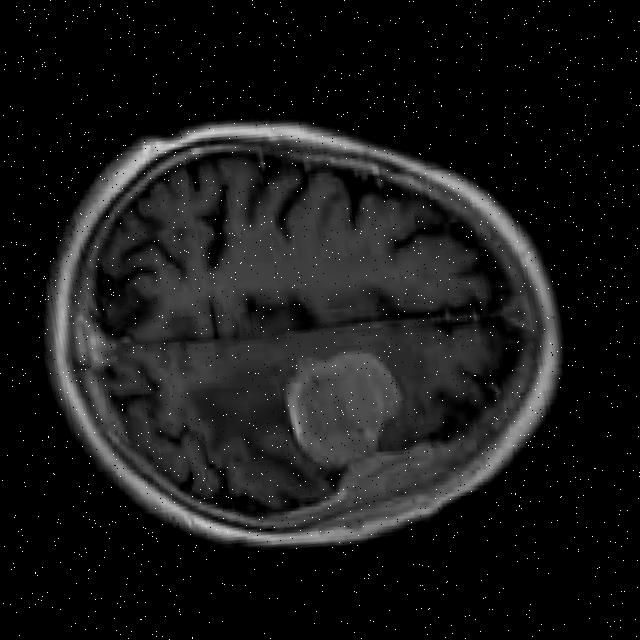Meningioma: (280, 335, 423, 498)
